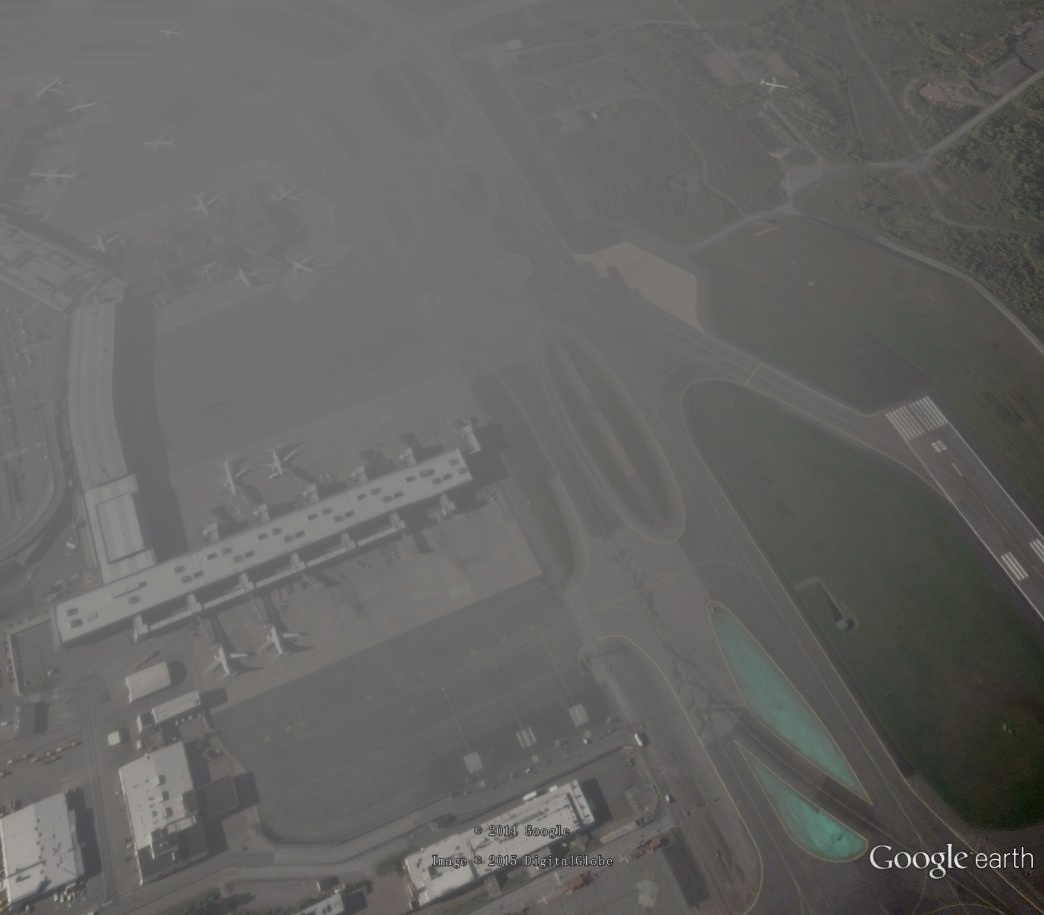aircraft: (249, 621, 313, 666), (249, 441, 306, 483), (22, 160, 82, 198), (202, 645, 255, 687), (211, 456, 259, 499), (277, 252, 328, 286), (265, 180, 316, 211), (84, 231, 127, 264), (138, 130, 181, 162), (184, 190, 225, 223), (228, 262, 265, 295), (156, 19, 193, 49), (63, 96, 106, 121), (34, 72, 69, 102), (757, 73, 793, 99)
